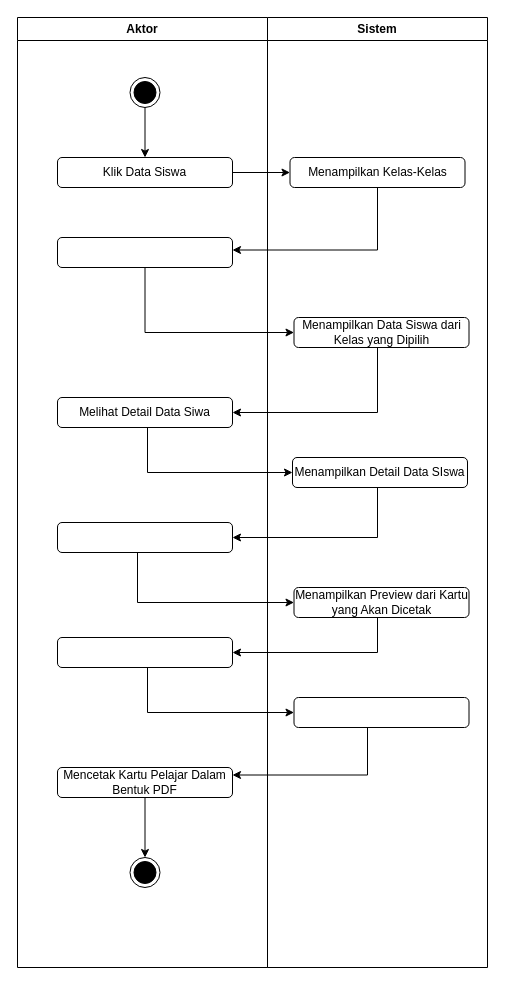
The diagram is 505 pixels wide and 985 high, and some of its shapes have lost their labels. Here are the shapes that lost their labels. From the top down, the centre of each, then its label:
At [144,252]: "Pilih Kelas".
At [144,537]: "Klik Cetak Kartu".
At [144,652]: "Klik Tombol Save".
At [381,712]: "Mengunduh Kartu Pelajar Dalam Bentuk PDF".
